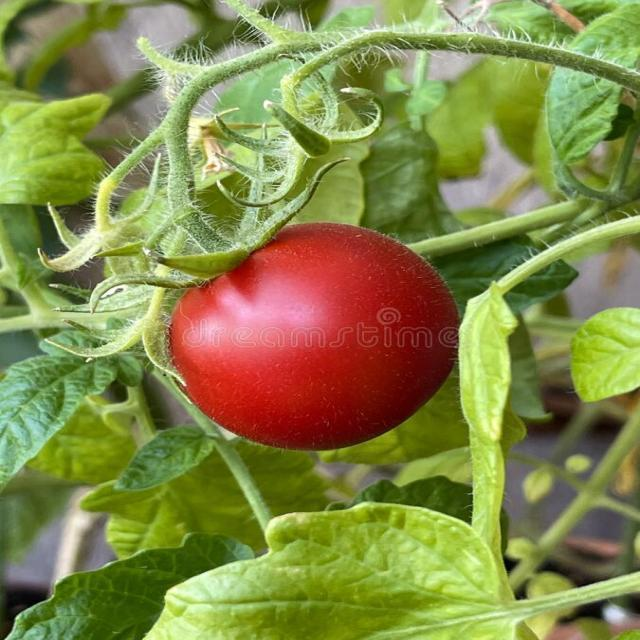kirmizi: (164, 210, 464, 478)
